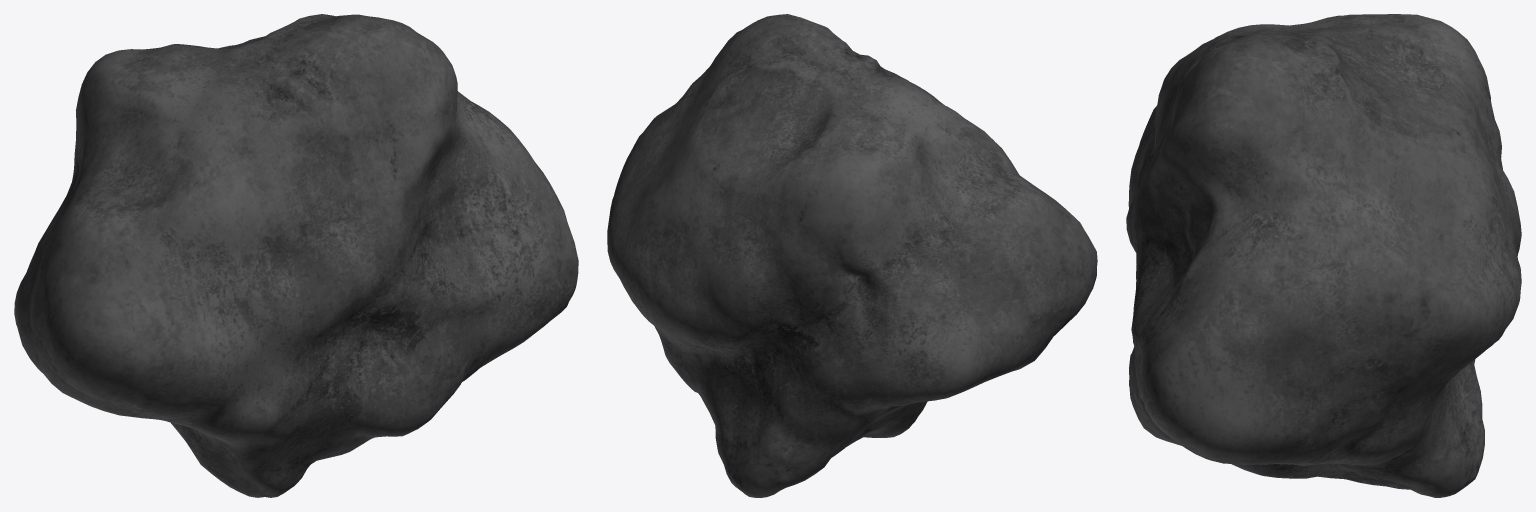
The model's file is asteroid.obj.
3 renders of one model, left to right at view 1: azimuth 30°, elevation 25°; view 2: azimuth 150°, elevation 25°; view 3: azimuth 270°, elevation 25°, orthographic. The views are drawn at different scales.
Visible parts, largest first — view 1: Group24690; view 2: Group24690; view 3: Group24690.
Boxes of the visible parts, left/top/right/bottom form: Group24690: left=14, top=14, right=578, bottom=497; Group24690: left=607, top=14, right=1097, bottom=497; Group24690: left=1126, top=14, right=1521, bottom=497.
Bounding box in the file's own units: 7.04 × 6.05 × 4.55.
1 material, 1 textured.
